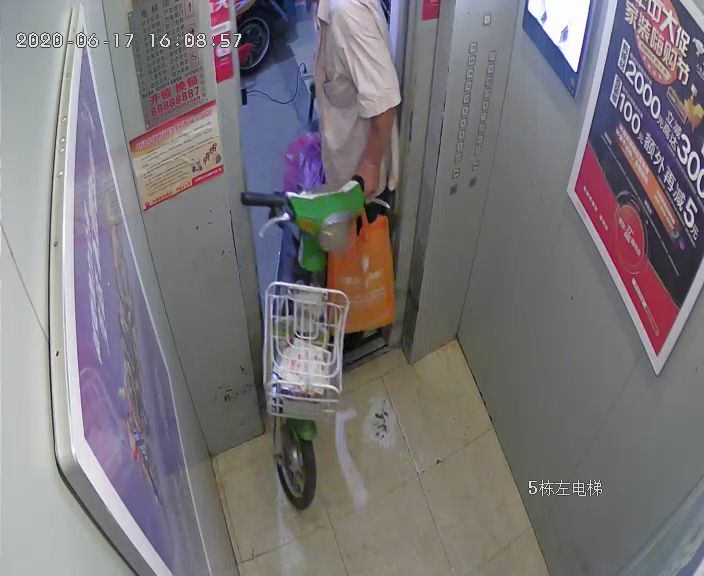Electric-bicycle: (240, 97, 389, 507)
